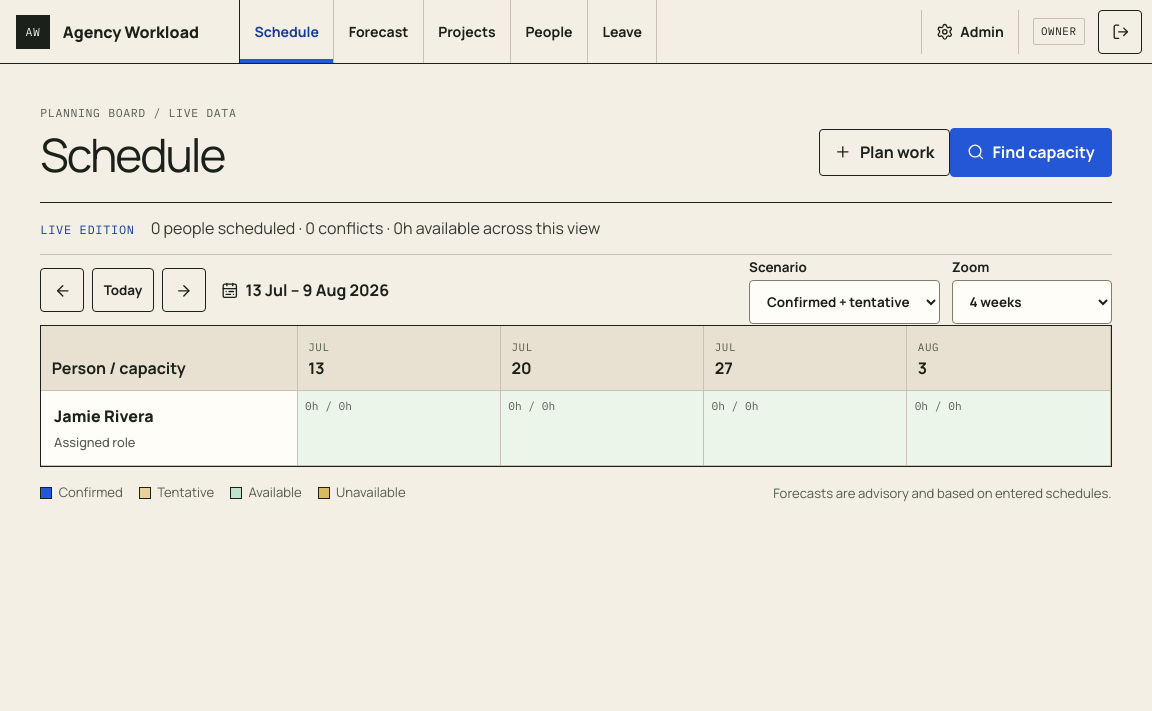
Test: Agency Workload app routes › uses backend-safe weekend-spanning results for Plan Work without automatic save
Click the button "Find capacity" at (1031, 152), box [950, 128, 1112, 177]
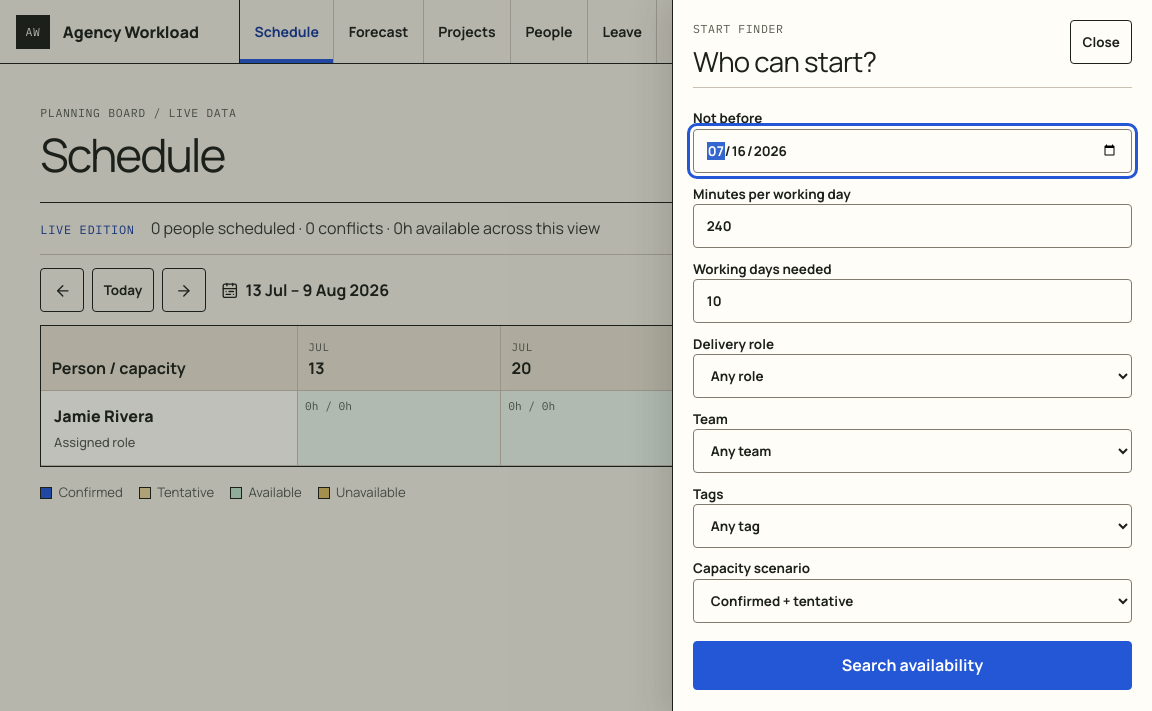
Select "Engineer" in the dropdown labelled "Delivery role" at (912, 376), box [693, 354, 1132, 398]
Select "Delivery" in the dropdown labelled "Team" at (912, 451), box [693, 429, 1132, 473]
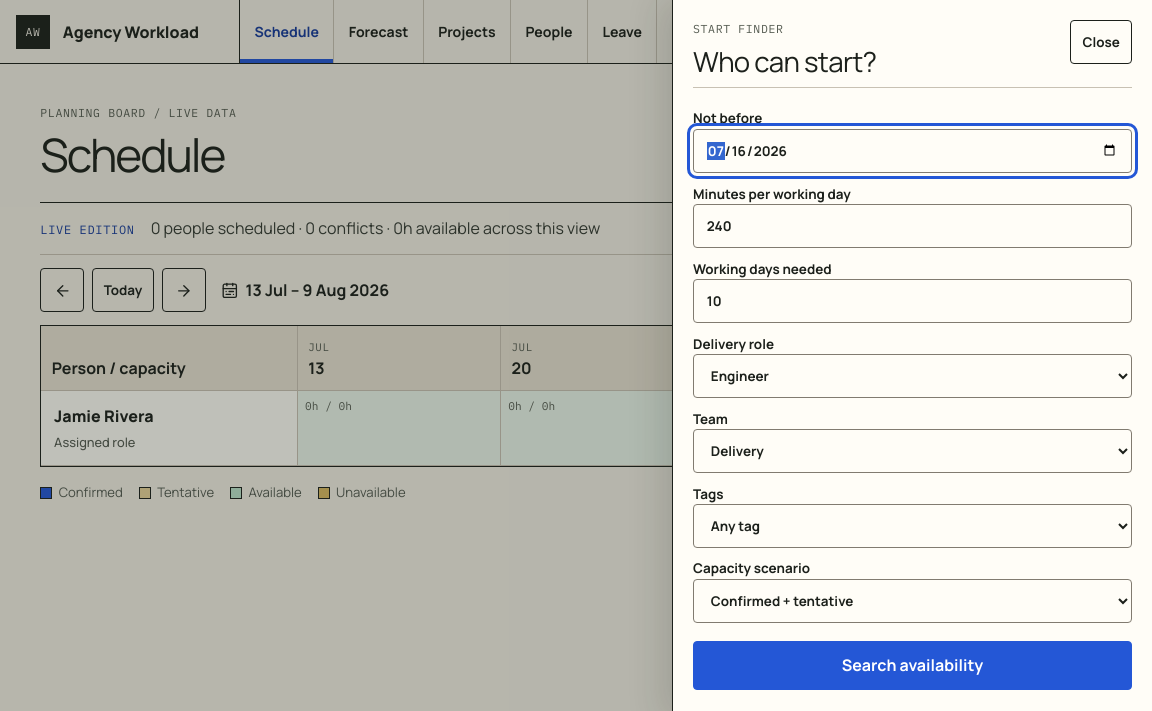
Select "TypeScript" in the dropdown labelled "Tags" at (912, 526), box [693, 504, 1132, 548]
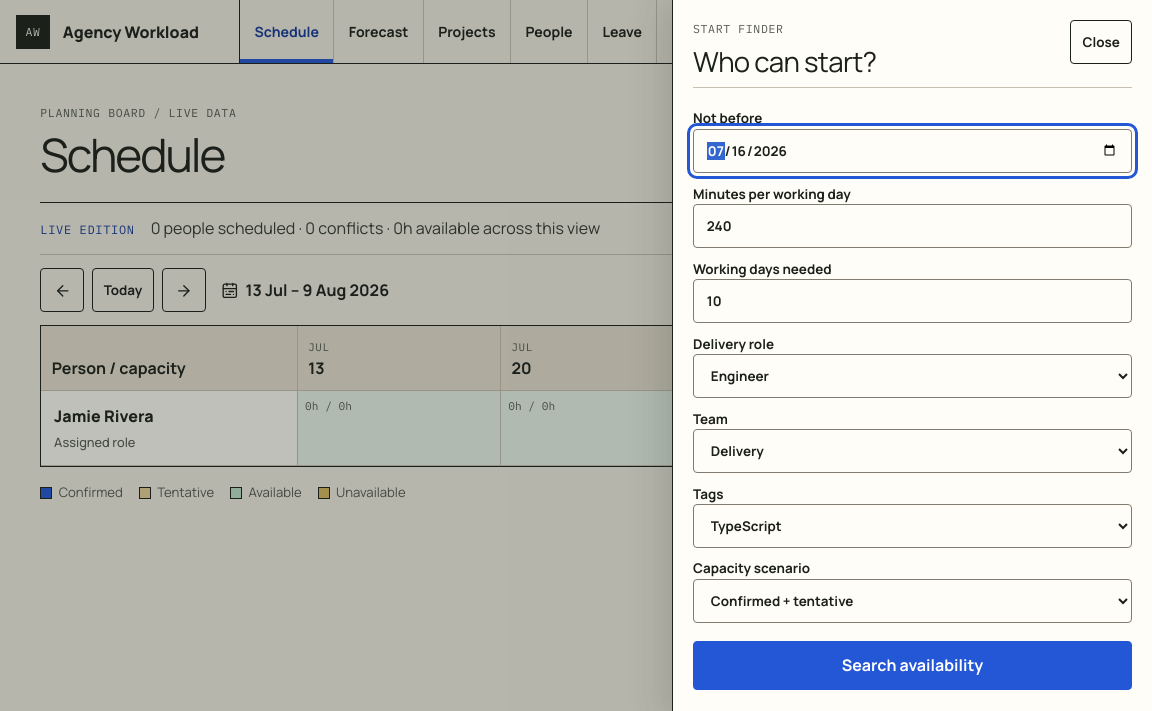
Select "Confirmed only" in the dropdown labelled "Capacity scenario" at (912, 601), box [693, 579, 1132, 623]
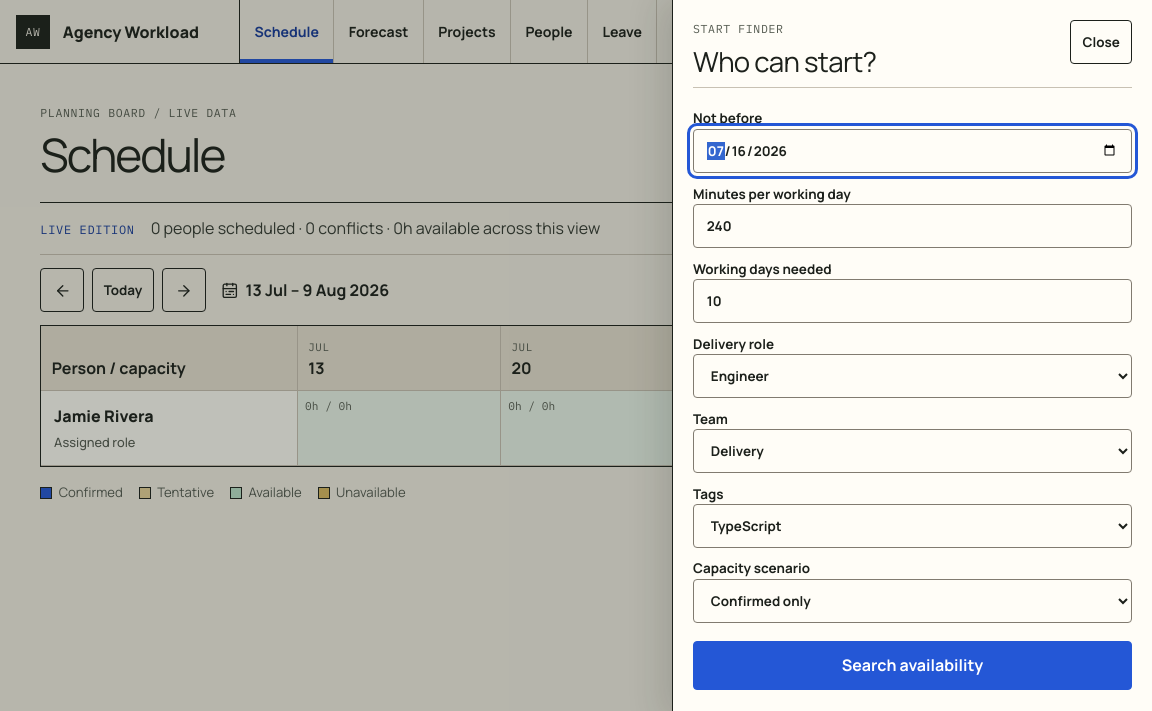
Click the button "Search availability" at (912, 665), box [693, 641, 1132, 690]
(page scrolled)
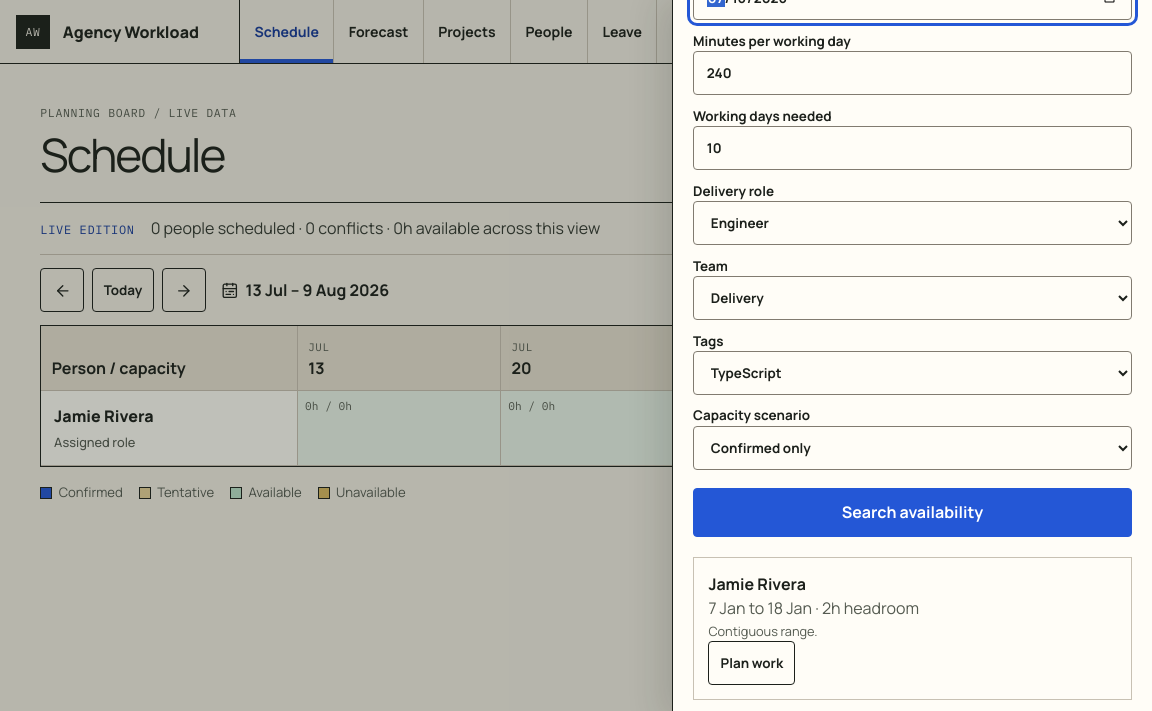
Expected: the text "Contiguous range." is shown, [708, 622, 818, 640]
Expected: the text "7 Jan to 18 Jan · 2h headroom" is shown, [708, 597, 919, 619]
Click the button "Plan work" at (752, 663), box [708, 641, 795, 685]
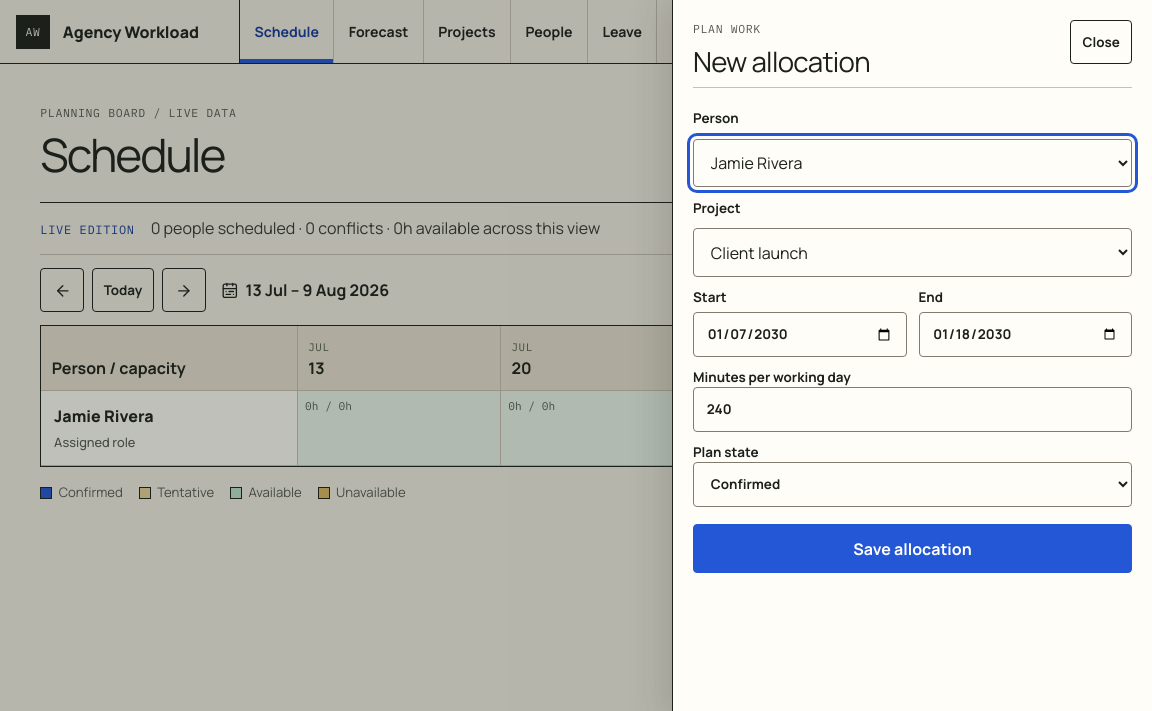
Expected: the heading "New allocation" is shown, [693, 47, 870, 77]
Expected: the dropdown labelled "Person" shows "Jamie Rivera", [693, 139, 1132, 187]
Expected: the date field labelled "Start" holds "2030-01-07", [693, 312, 906, 356]
